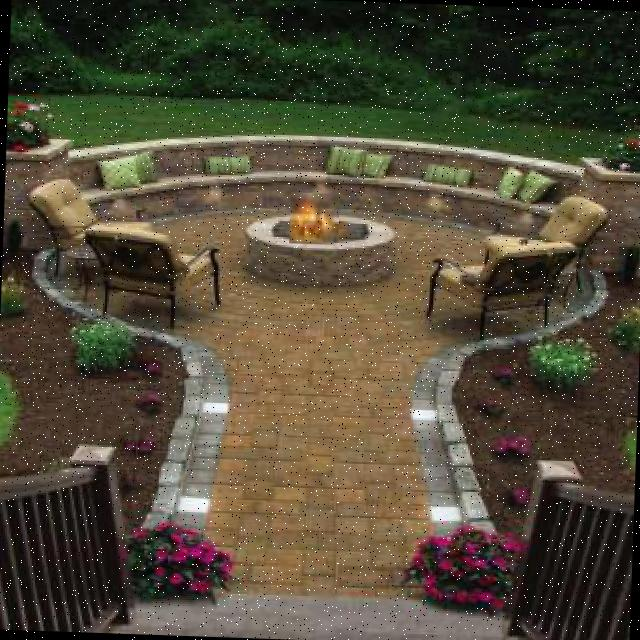fire: (288, 192, 339, 244)
